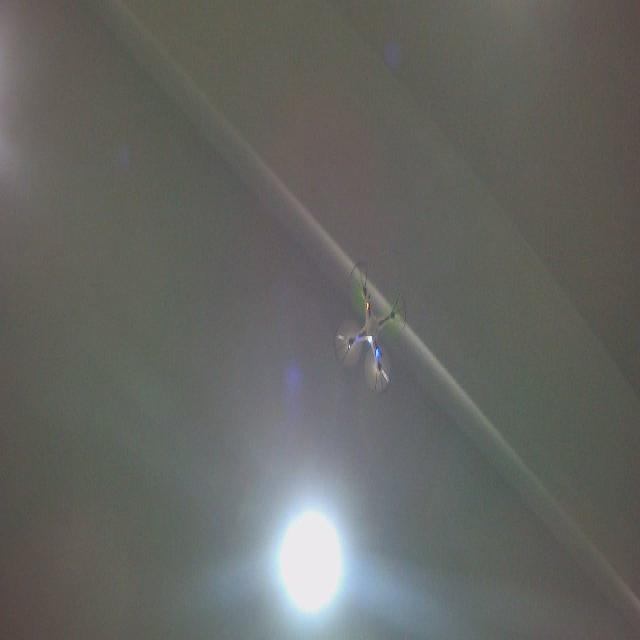drone: (332, 260, 408, 398)
